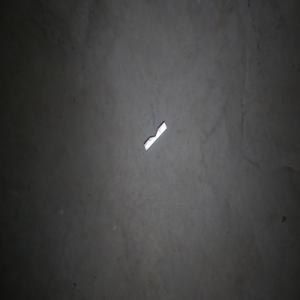ClampPart: (143, 120, 167, 152)
